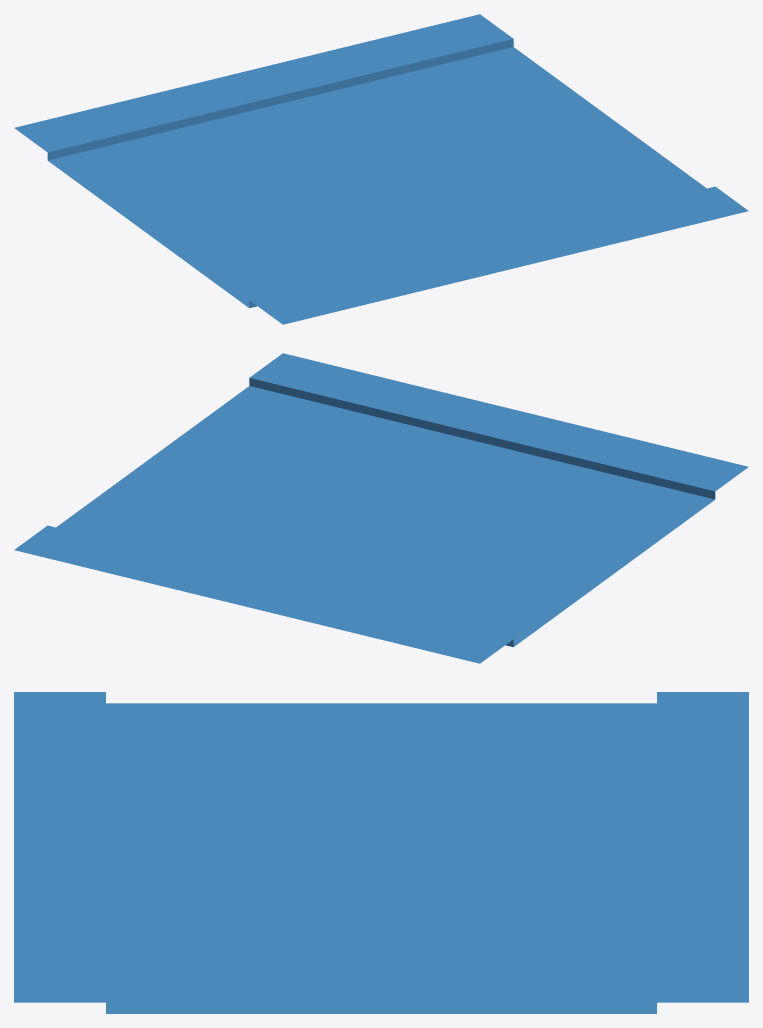
File: Road_Mid.fbx
3 views of the same model, one above another, from view 1: azimuth 30°, elevation 25°; view 2: azimuth 150°, elevation 25°; view 3: azimuth 270°, elevation 25° (orthographic). The views are drawn at different scales.
Parts seen in each view (by area): view 1: Road_Mid; view 2: Road_Mid; view 3: Road_Mid.
Part boxes in pixels (x1=…): Road_Mid: x1=14, y1=14, x2=748, y2=324; Road_Mid: x1=14, y1=353, x2=748, y2=663; Road_Mid: x1=14, y1=692, x2=748, y2=1013.
Bounding box in the file's own units: 900 × 15 × 900.
